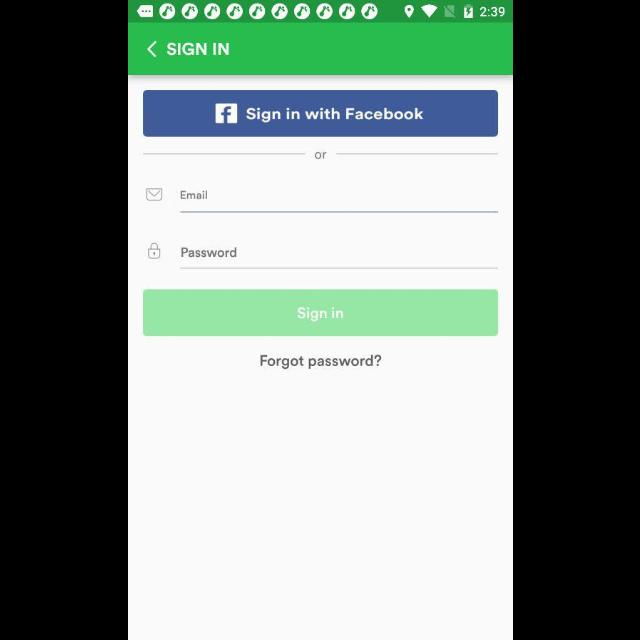icon: (148, 242, 160, 260), (146, 189, 162, 201), (147, 42, 157, 58)
input: (180, 190, 498, 213), (180, 247, 498, 269)
text: (260, 354, 380, 370), (167, 43, 229, 57), (180, 248, 236, 258), (180, 190, 207, 200), (314, 152, 326, 160)
textbutton: (142, 90, 498, 138), (142, 290, 498, 336)
toolbar: (128, 24, 512, 76)
uppertaskbar: (128, 1, 512, 23)
